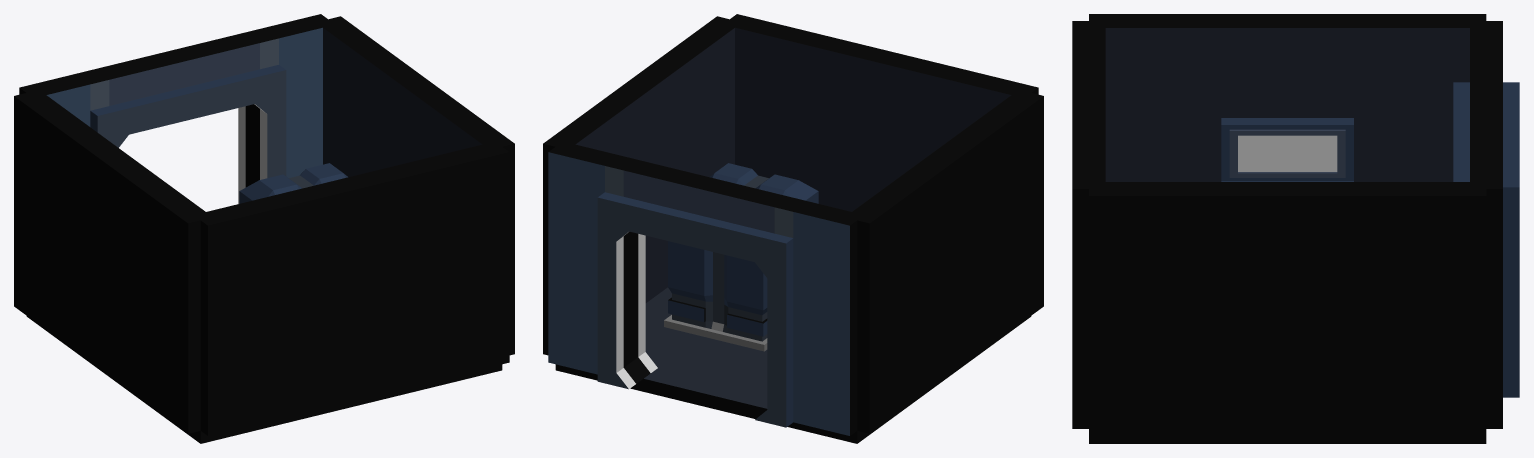
File: StartingRoom.fbx
3 renders of one model, left to right at view 1: azimuth 30°, elevation 25°; view 2: azimuth 150°, elevation 25°; view 3: azimuth 270°, elevation 25°, orthographic. The views are drawn at different scales.
Visible parts, largest first — view 1: PanicRoomWall, PanicRoomWall.002, Doorway.002, PanicRoomWall.003, PanicRoomFloor, Node2; view 2: Doorway.002, PanicRoomWall.002, PanicRoomWall, PanicRoomWall.003, Node2, PanicRoomFloor; view 3: PanicRoomWall.003, PanicRoomWall.002, Doorway.002, PanicRoomWall, Terminal1, PanicRoomFloor.
Part boxes in pixels (<box>): PanicRoomWall: <box>200,141,509,435</box>; PanicRoomWall.002: <box>14,93,212,433</box>; Doorway.002: <box>19,14,334,203</box>; PanicRoomWall.003: <box>323,16,514,355</box>; PanicRoomFloor: <box>26,316,502,443</box>; Node2: <box>239,163,347,203</box>; Doorway.002: <box>548,141,863,435</box>; PanicRoomWall.002: <box>852,90,1043,433</box>; PanicRoomWall: <box>723,14,1038,211</box>; PanicRoomWall.003: <box>543,16,734,355</box>; Node2: <box>664,163,818,351</box>; PanicRoomFloor: <box>555,287,1031,443</box>; PanicRoomWall.003: <box>1089,182,1486,435</box>; PanicRoomWall.002: <box>1089,14,1486,181</box>; Doorway.002: <box>1453,21,1519,428</box>; PanicRoomWall: <box>1072,21,1105,428</box>; Terminal1: <box>1221,118,1353,181</box>; PanicRoomFloor: <box>1089,436,1486,443</box>.
Bounding box in the file's own units: 650 × 425 × 675.
